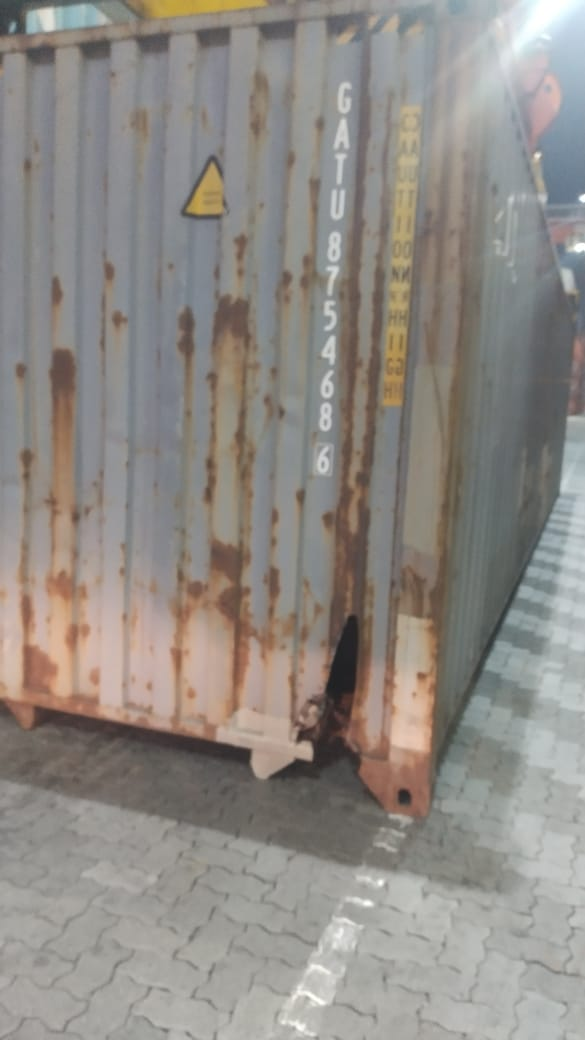cut: (263, 596, 395, 766)
rust: (343, 113, 430, 535), (207, 257, 264, 526), (46, 310, 104, 496)
